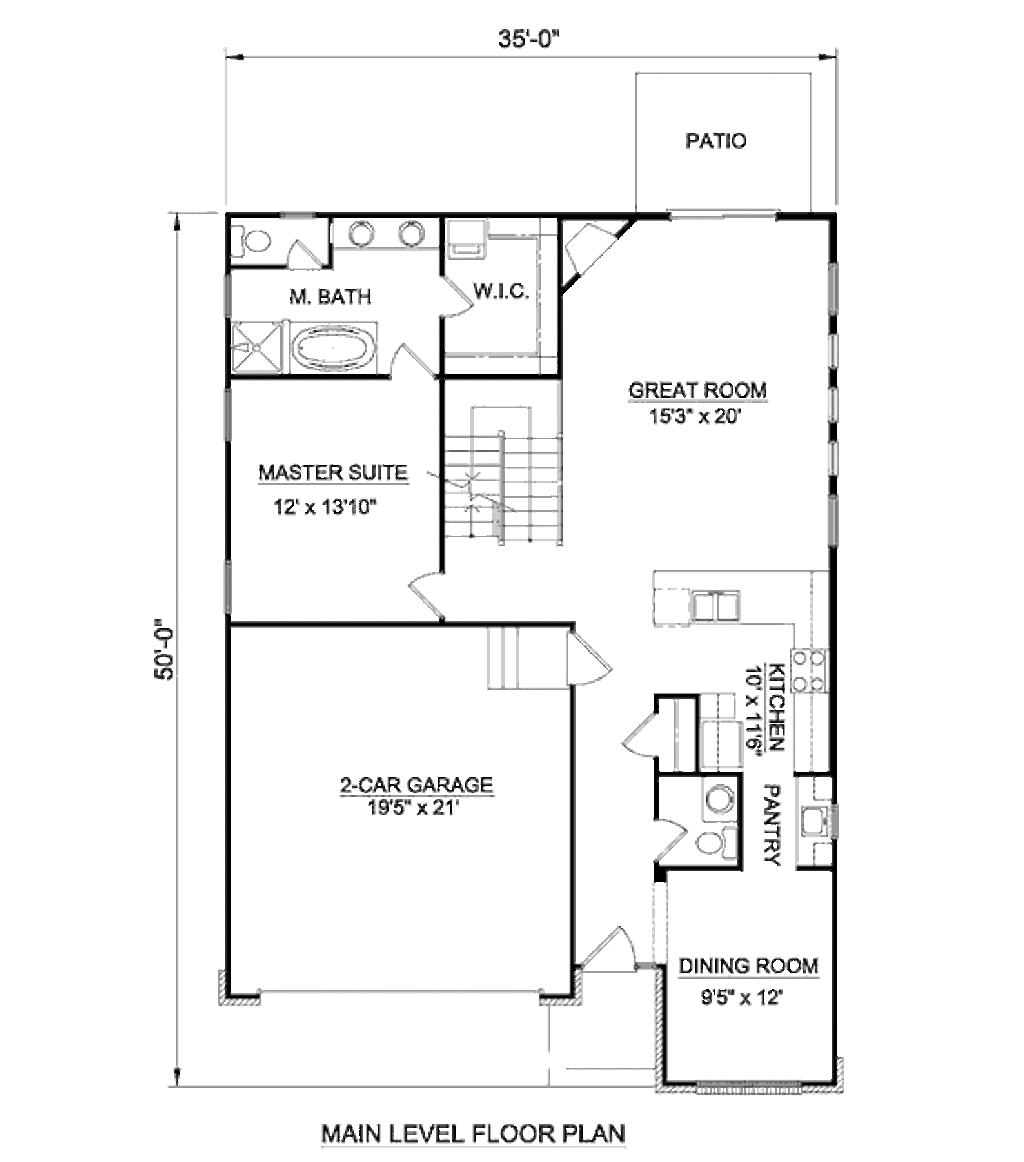door: (400, 558, 453, 620), (559, 626, 614, 685), (582, 922, 639, 970), (378, 338, 437, 381), (648, 806, 686, 872), (616, 706, 659, 761), (436, 272, 480, 322), (287, 240, 323, 274)
large_sink: (221, 213, 275, 276), (691, 822, 739, 869)
sink: (796, 797, 845, 842)
small_sink: (337, 210, 430, 254), (700, 769, 741, 819)
stairs: (443, 376, 570, 549)
twin_sink: (687, 583, 745, 628)
window: (668, 194, 787, 226), (818, 485, 850, 549), (818, 429, 857, 478), (821, 322, 853, 378), (825, 253, 843, 319)
